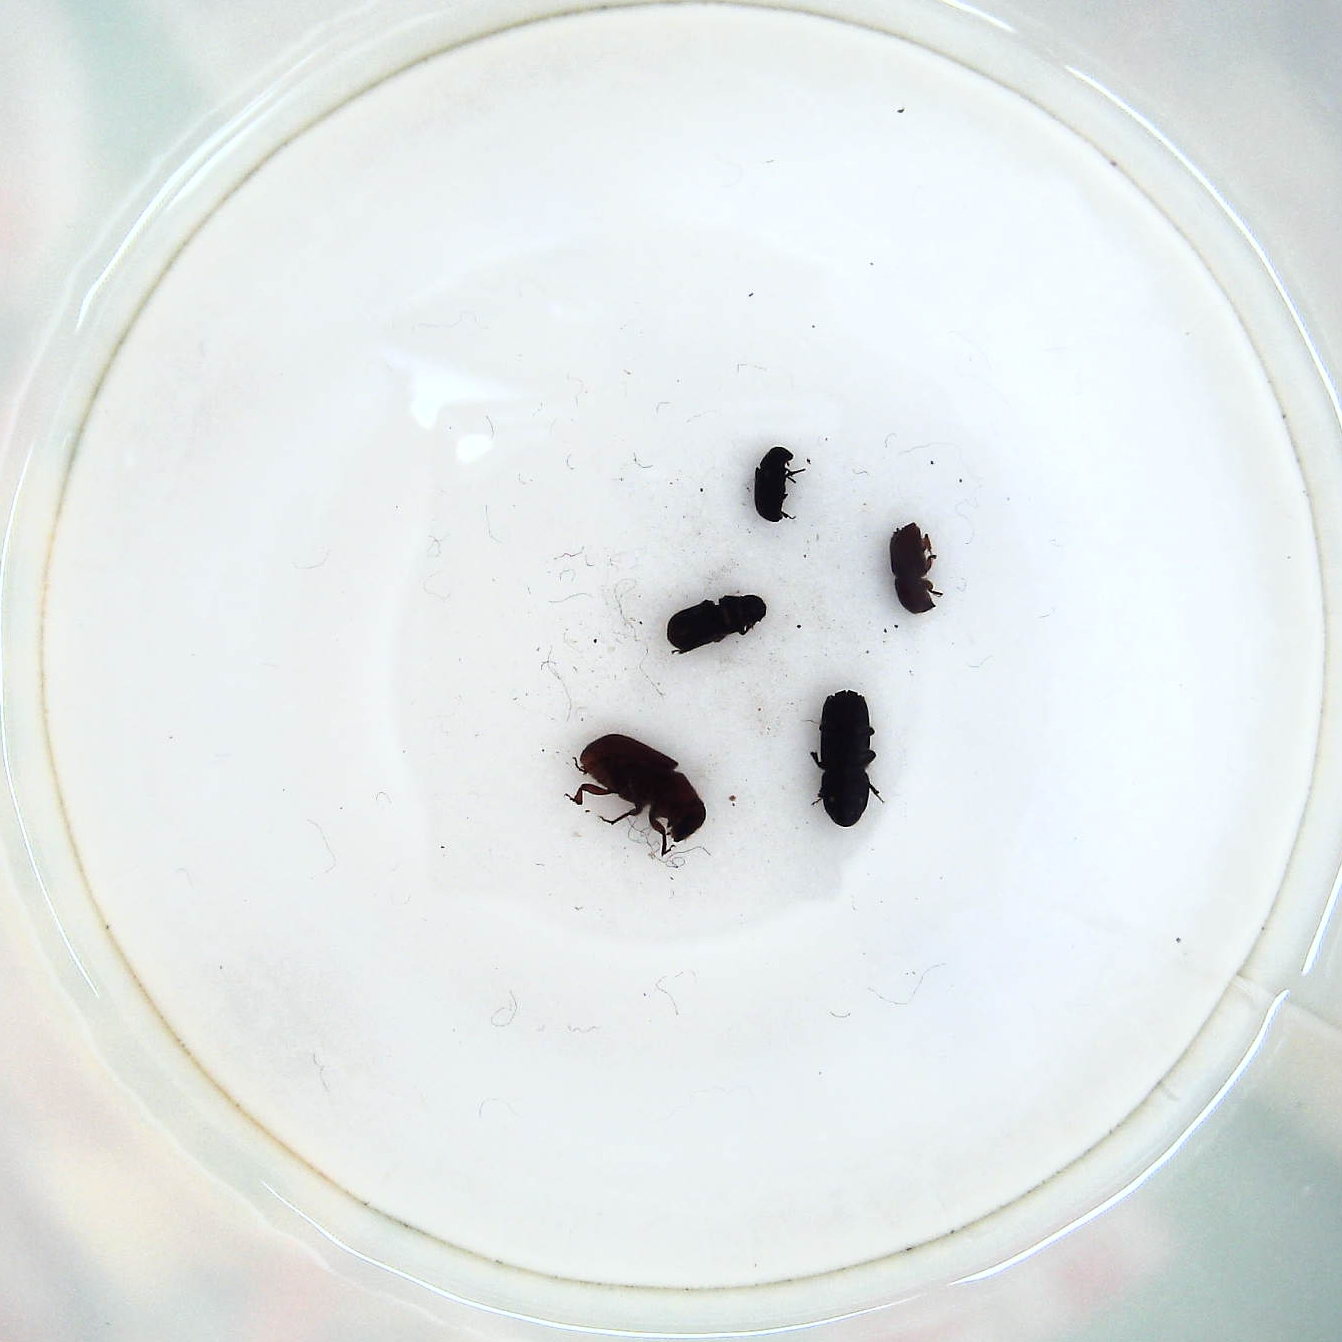Boerner: (805, 683, 885, 832)
Leconte: (567, 729, 715, 857)
armandi: (662, 590, 773, 656)
coleoptera: (748, 441, 805, 528)
linnaeus: (884, 512, 944, 621)
